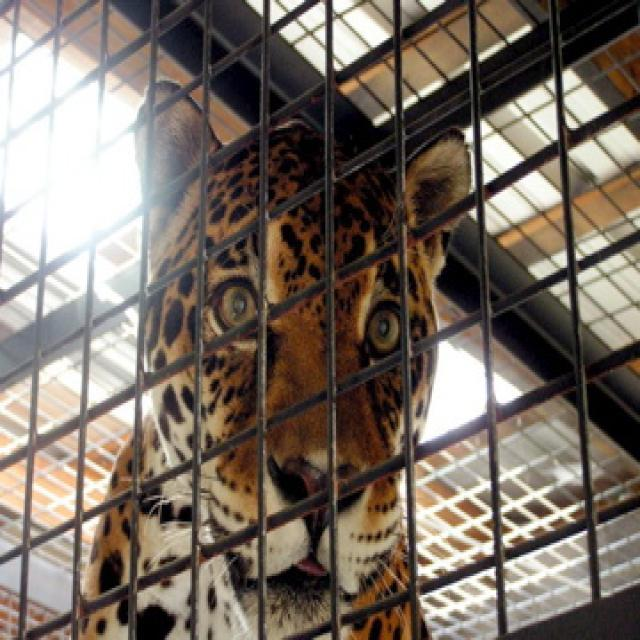Leopard: (73, 76, 469, 635)
